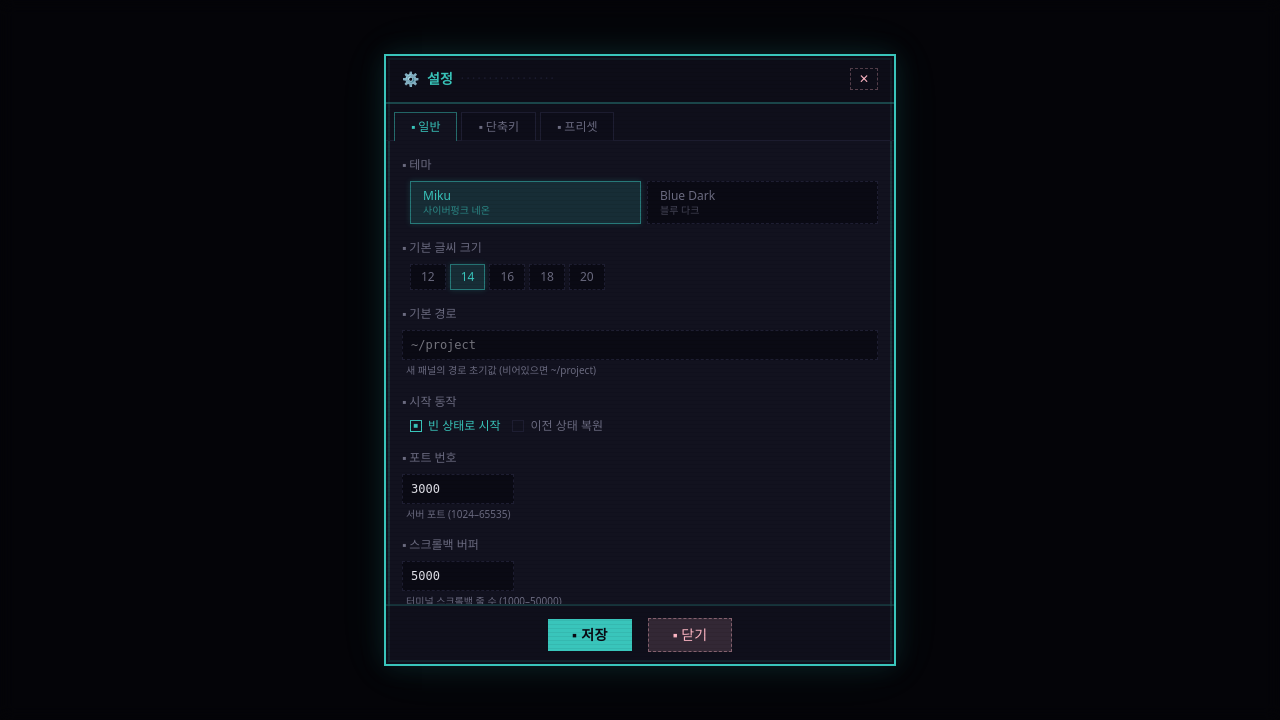
Settings 렌더링 › 프리셋 탭 클릭 시 프리셋 관리가 표시된다
Click the button "▪ 프리셋". click: [577, 126]
box: [540,112,614,141]
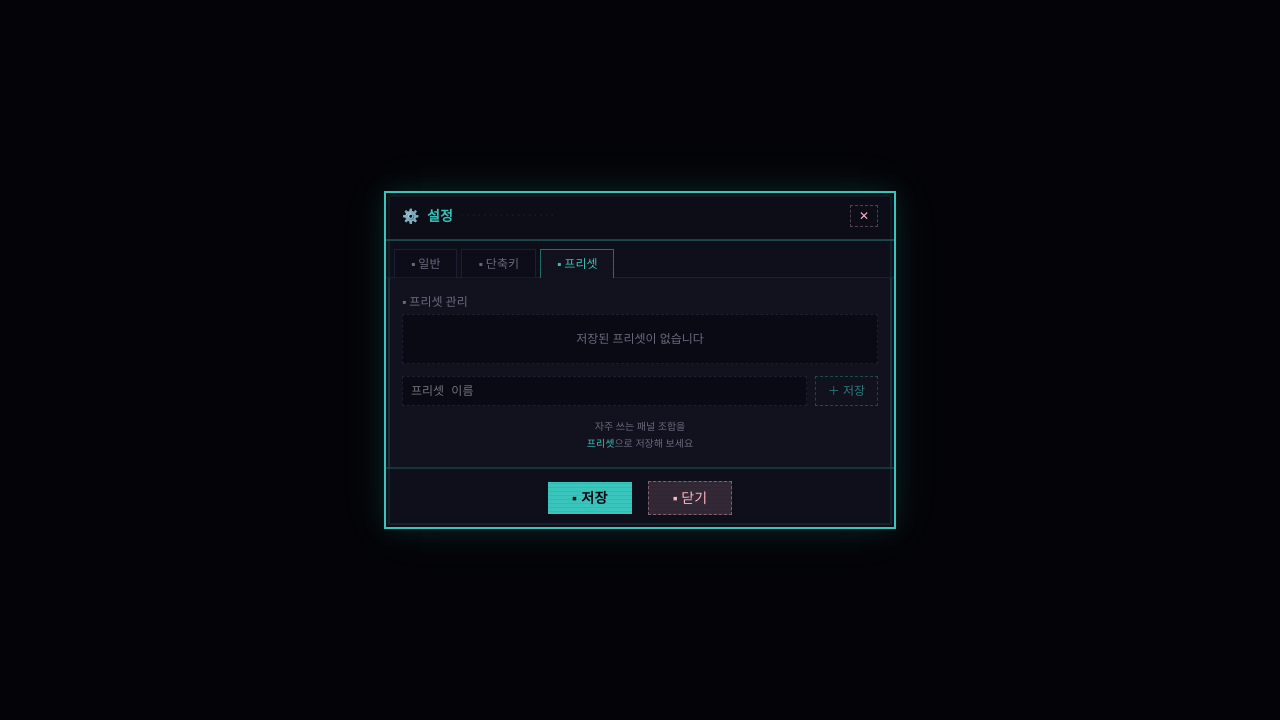
Expected: the text "▪ 프리셋 관리" is shown, [402,293,468,310]
